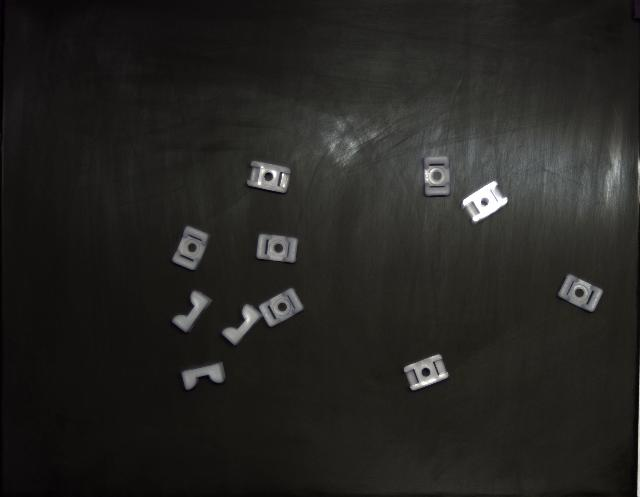first_side: (259, 289, 304, 328), (558, 275, 602, 312), (172, 226, 209, 270), (256, 234, 298, 264), (424, 156, 450, 196)
second_side: (462, 181, 508, 224), (404, 355, 449, 391), (248, 161, 291, 194)
third_side: (222, 305, 261, 346), (172, 291, 211, 332), (181, 362, 225, 390)
